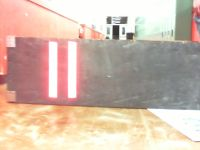switch: (67, 40, 77, 99), (48, 41, 58, 98)
